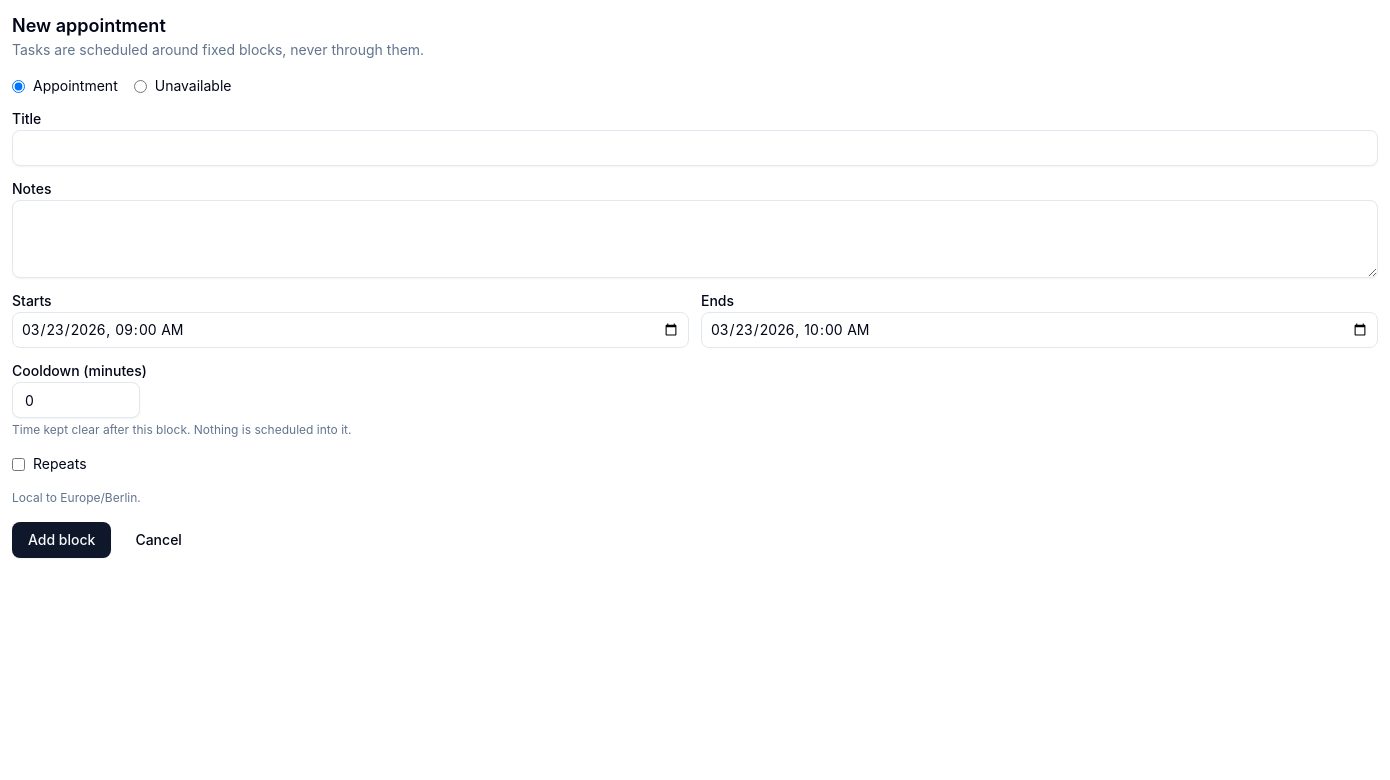
Scenario: when the start moves › keeps a length the user has just set on a new block
Replace the text in the field with test id "appointment-end" with "2026-03-23T17:00" at (1040, 330), box [701,312,1378,348]
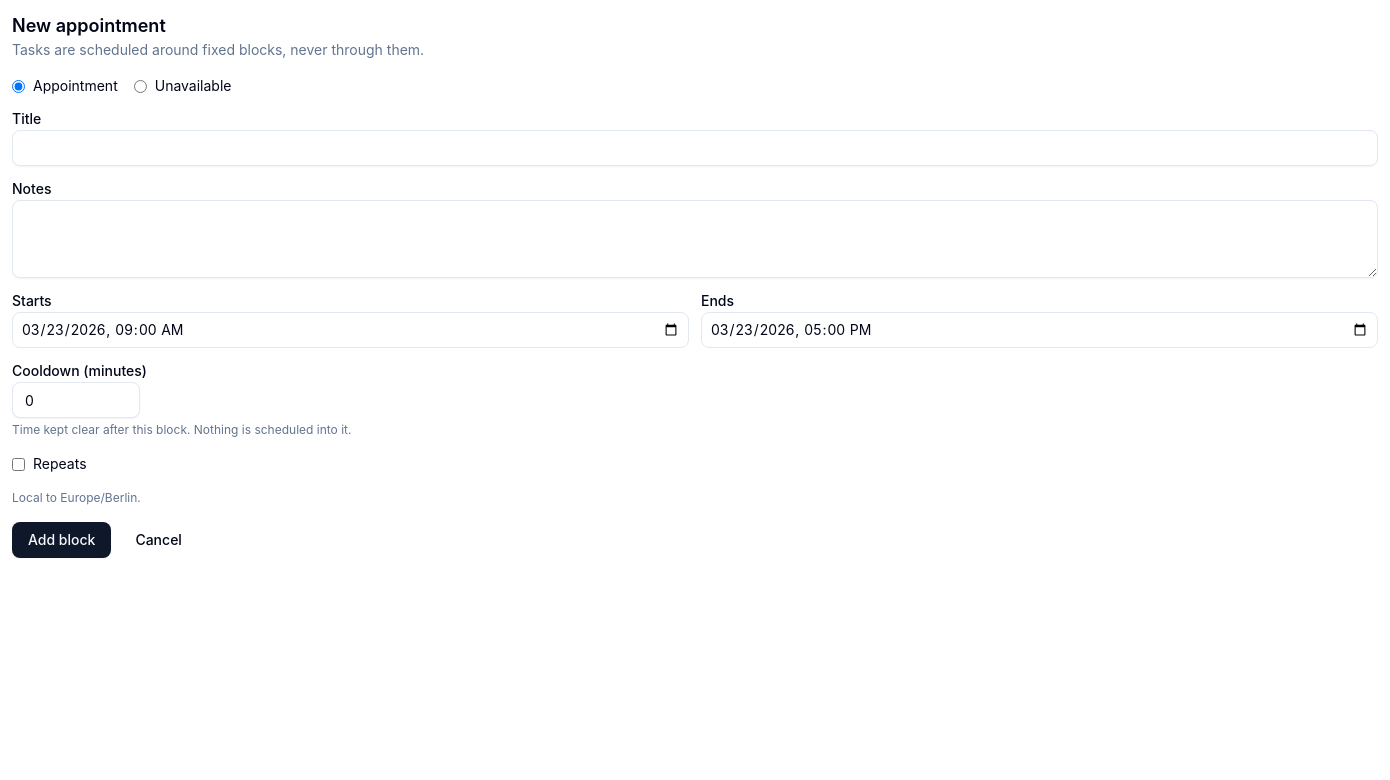
Replace the text in the field with test id "appointment-start" with "2026-03-23T10:00" at (350, 330), box [12,312,689,348]
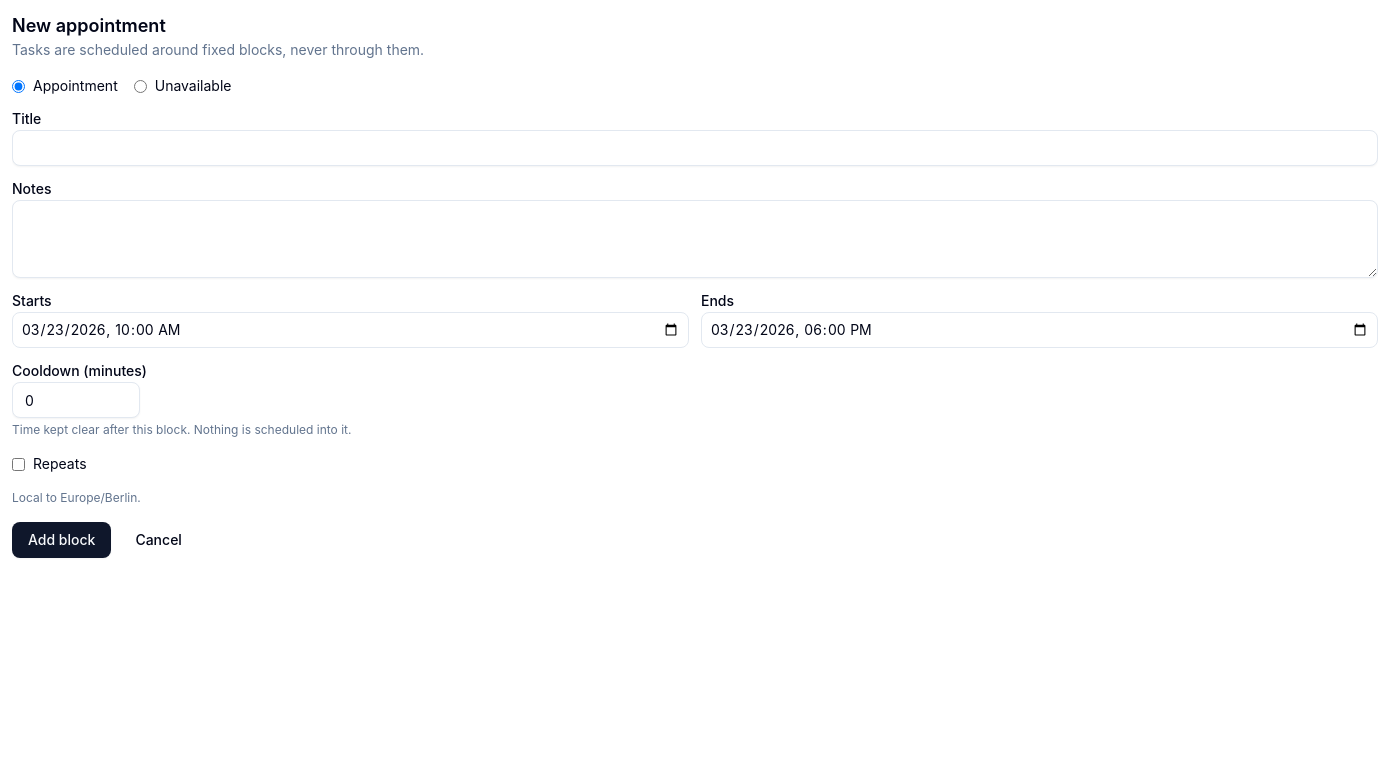
Check: the field with test id "appointment-end" holds "2026-03-23T18:00", box [701,312,1378,348]
